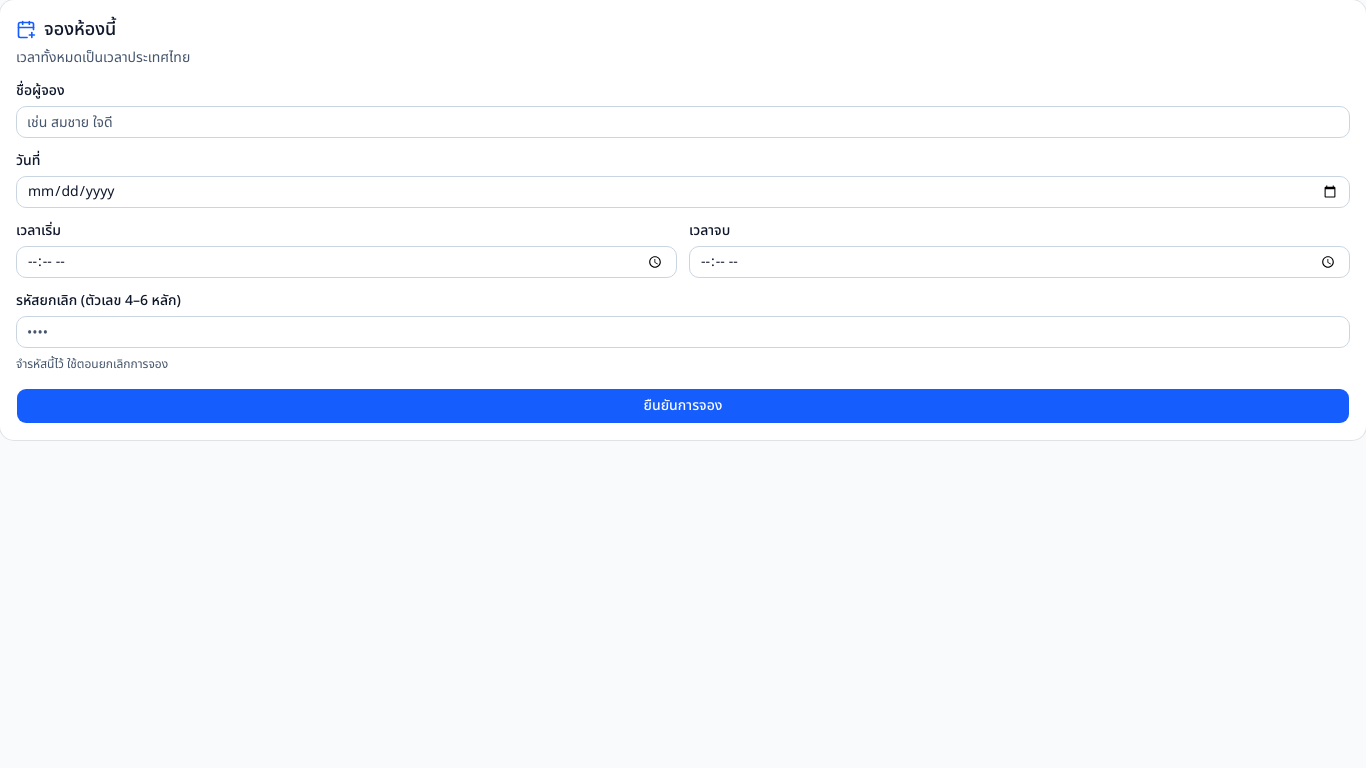
Test case: BookingForm › shows an error under every empty field and does not call the API
Step 1. Click the button "ยืนยันการจอง" → [683, 406], box [16,388,1350,424]
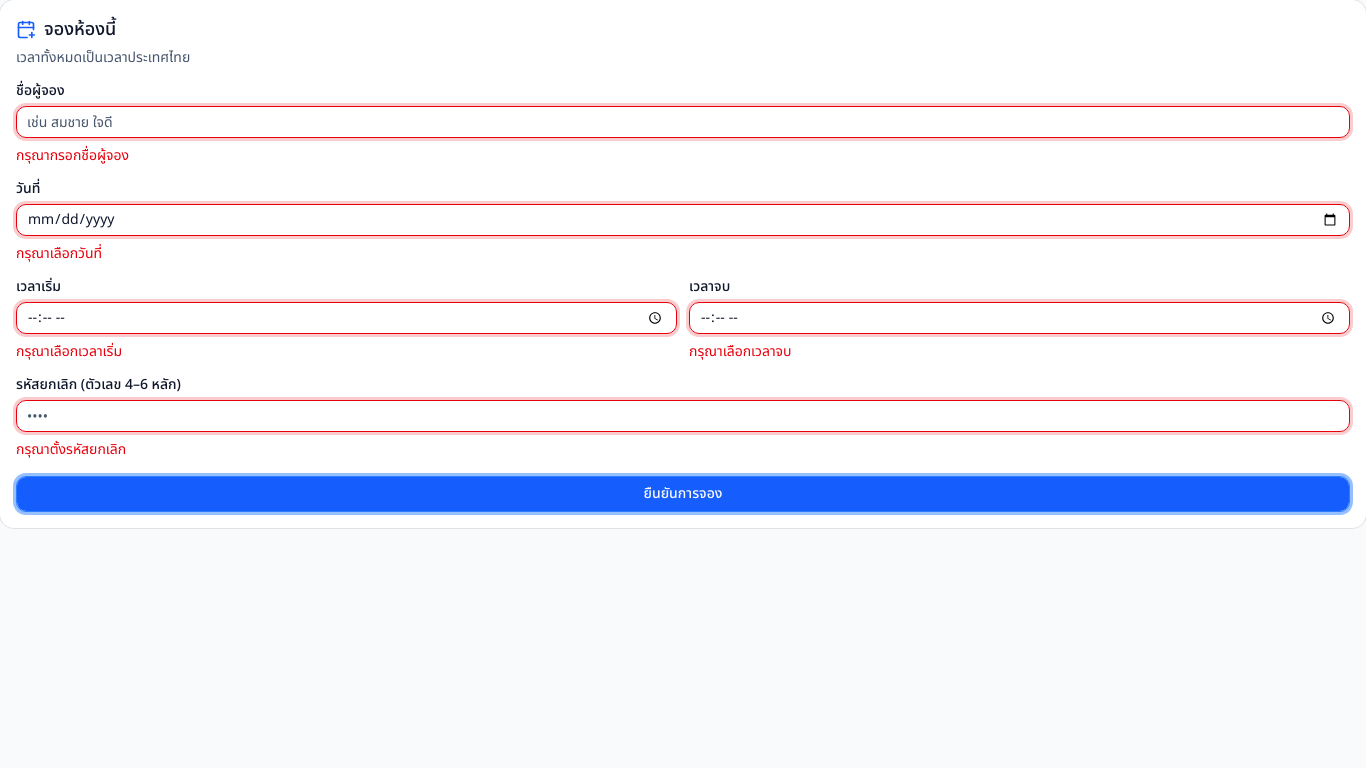
Expected: the text "กรุณากรอกชื่อผู้จอง" is shown, [16,145,129,166]
Expected: the text "กรุณาเลือกวันที่" is shown, [16,243,102,264]
Expected: the text "กรุณาเลือกเวลาเริ่ม" is shown, [16,341,122,362]
